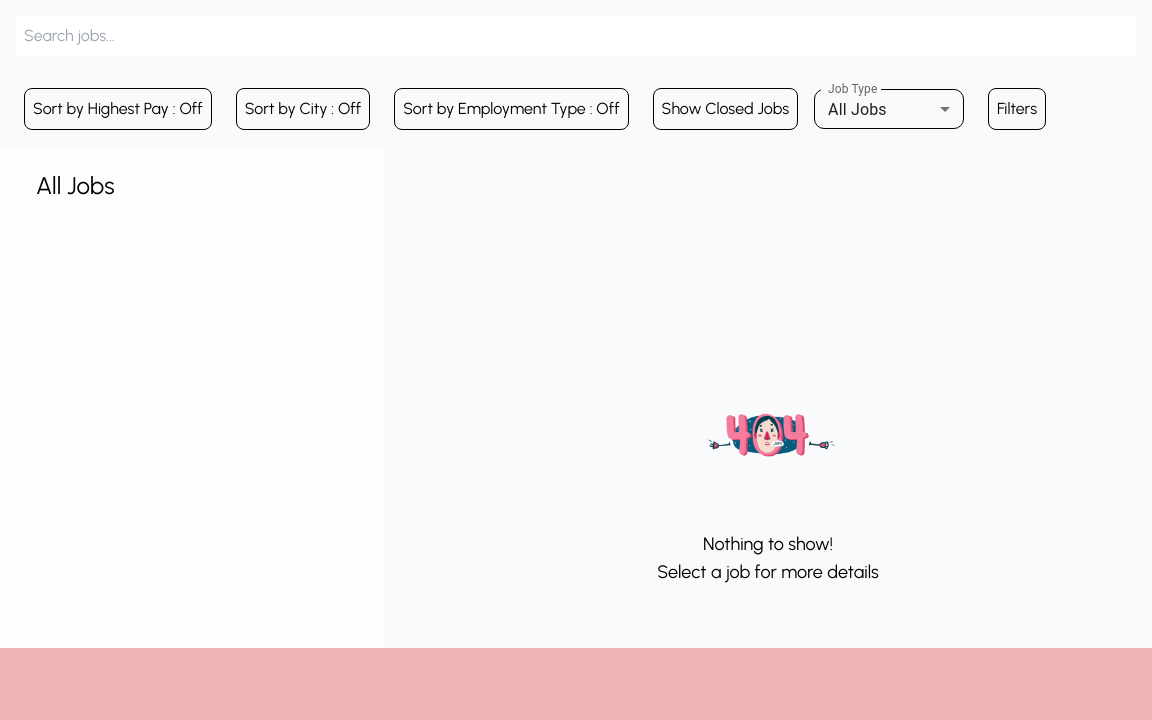
Explore Page › toggles sort by highest pay button text
The width and height of the screenshot is (1152, 720).
Click the button "Sort by Highest Pay : Off".
click(118, 109)  # box [24,88,212,130]
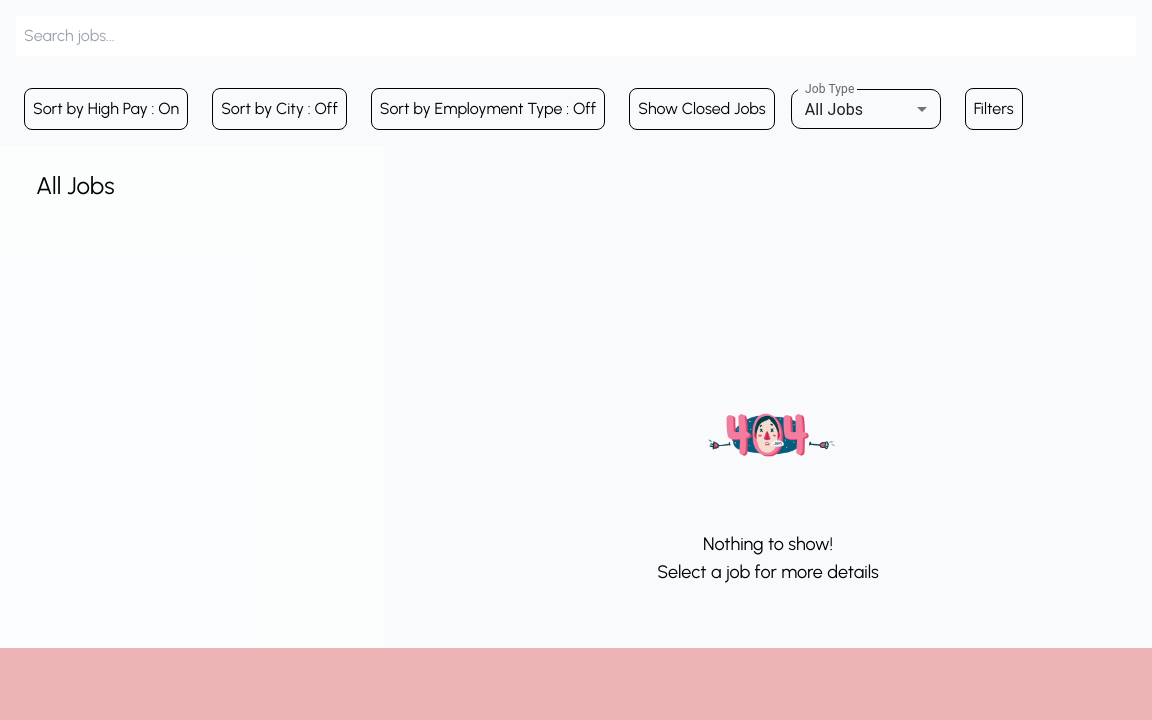
Check: the button "Sort by Highest Pay : Off" reads "Sort by High Pay : On", box [24,88,188,130]
